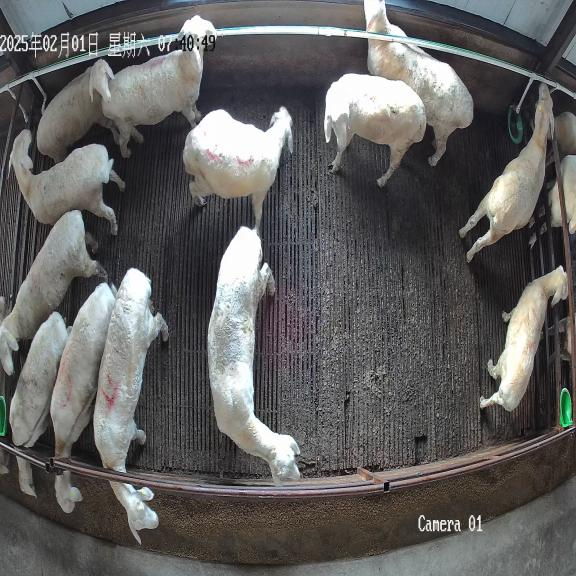eating: (50, 283, 115, 512), (9, 312, 69, 496)
stand: (207, 227, 300, 486), (93, 268, 168, 544), (364, 0, 473, 166), (0, 210, 107, 374), (459, 83, 554, 262), (102, 16, 216, 157), (183, 108, 292, 228), (480, 266, 568, 411), (10, 130, 125, 235), (324, 74, 426, 186), (36, 59, 118, 163)
